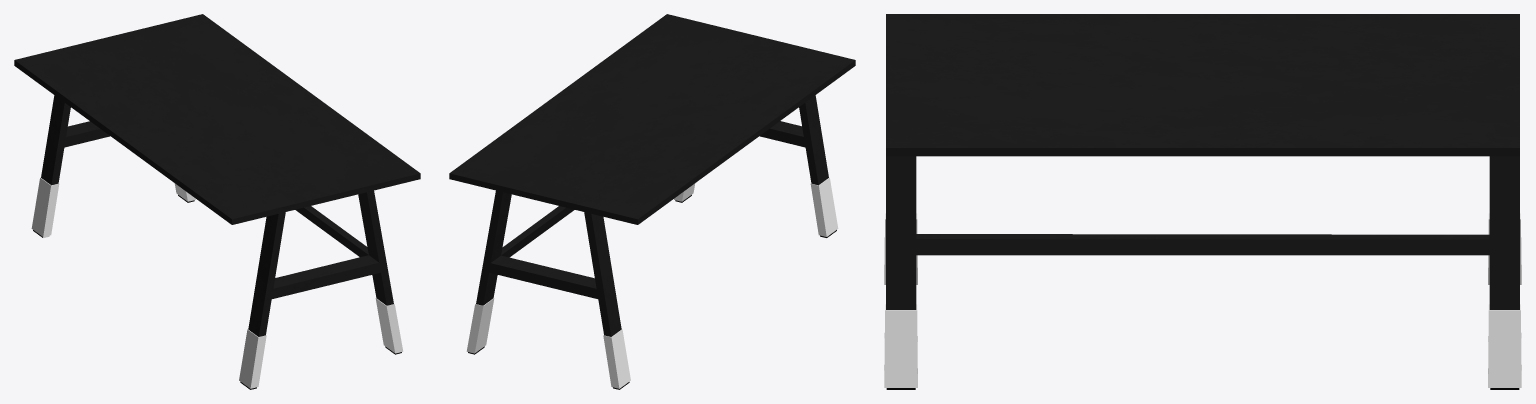
Rendered from uploads_files_4158363_table.glb.
3 renders of one model, left to right at view 1: azimuth 30°, elevation 25°; view 2: azimuth 150°, elevation 25°; view 3: azimuth 270°, elevation 25°, orthographic. The views are drawn at different scales.
Visible parts, largest first — view 1: Cube, Cube.001, Cube.004, Cube.002; view 2: Cube, Cube.004, Cube.001, Cube.003; view 3: Cube, Cube.003, Cube.002.
Part boxes in pixels (bbox=[...]): Cube: bbox=[14, 14, 420, 336]; Cube.001: bbox=[239, 329, 266, 389]; Cube.004: bbox=[31, 177, 59, 237]; Cube.002: bbox=[375, 298, 403, 354]; Cube: bbox=[449, 14, 855, 336]; Cube.004: bbox=[603, 329, 630, 389]; Cube.001: bbox=[810, 177, 838, 237]; Cube.003: bbox=[466, 298, 494, 354]; Cube: bbox=[886, 14, 1519, 309]; Cube.003: bbox=[1488, 304, 1521, 389]; Cube.002: bbox=[884, 304, 917, 389].
Size of the model in its own units: 2 by 1.78 by 4.02.
Materials: 3 (1 with a texture image).
